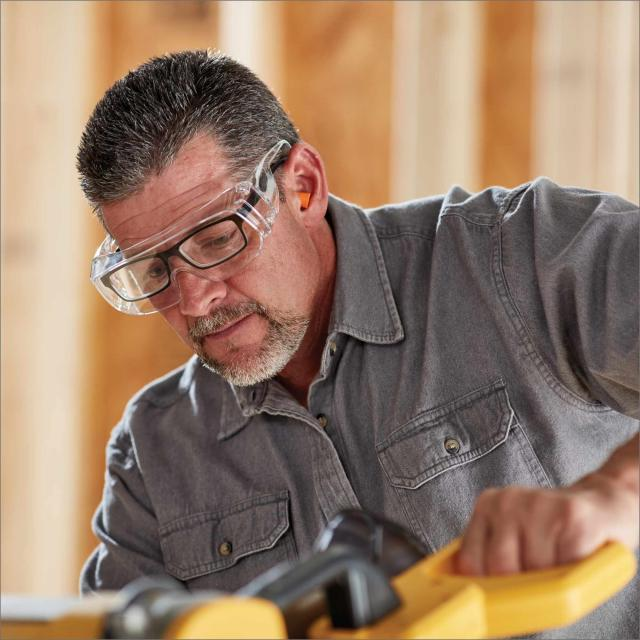goggles: (86, 135, 299, 319)
